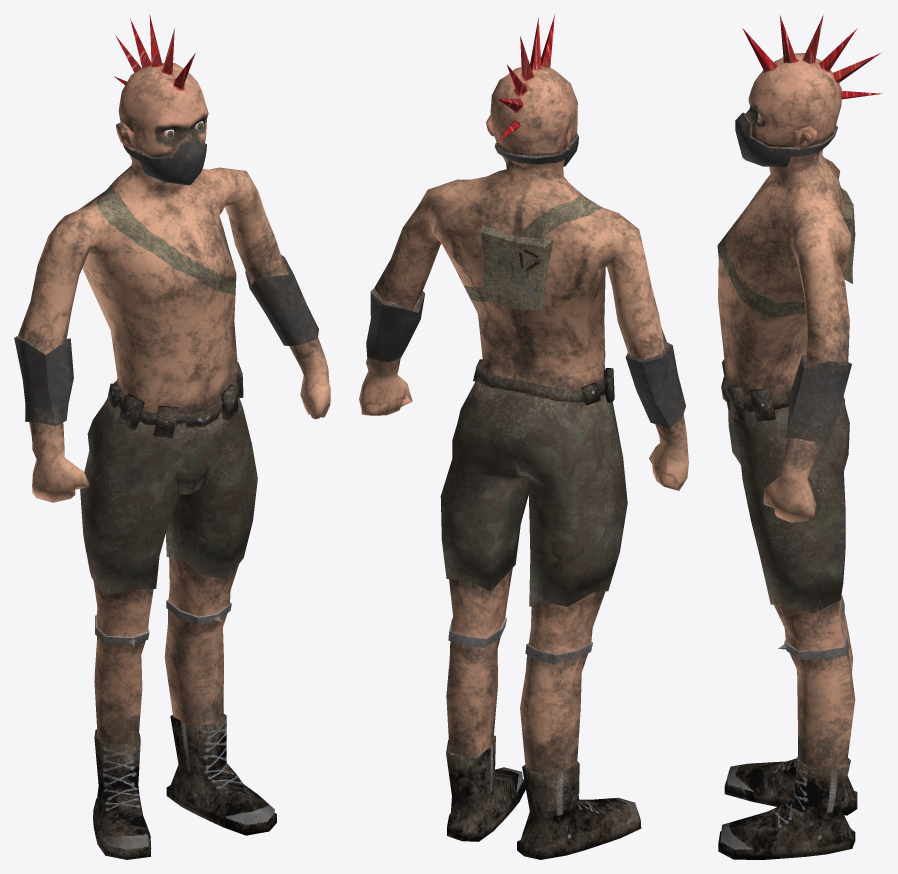
The model's file is Anim_disparar_ametralladora_npc2.0037.obj.
3 views of the same model, side by side, from view 1: azimuth 30°, elevation 25°; view 2: azimuth 150°, elevation 25°; view 3: azimuth 270°, elevation 25° (orthographic).
Visible parts, largest first — view 1: polySurface1; view 2: polySurface1; view 3: polySurface1.
Boxes of the visible parts, <box> form: polySurface1: <box>14,14,330,859</box>; polySurface1: <box>359,14,688,859</box>; polySurface1: <box>717,14,882,859</box>.
Size of the model in its own units: 4.12 by 10.2 by 1.9.
2 materials, 2 textured.
